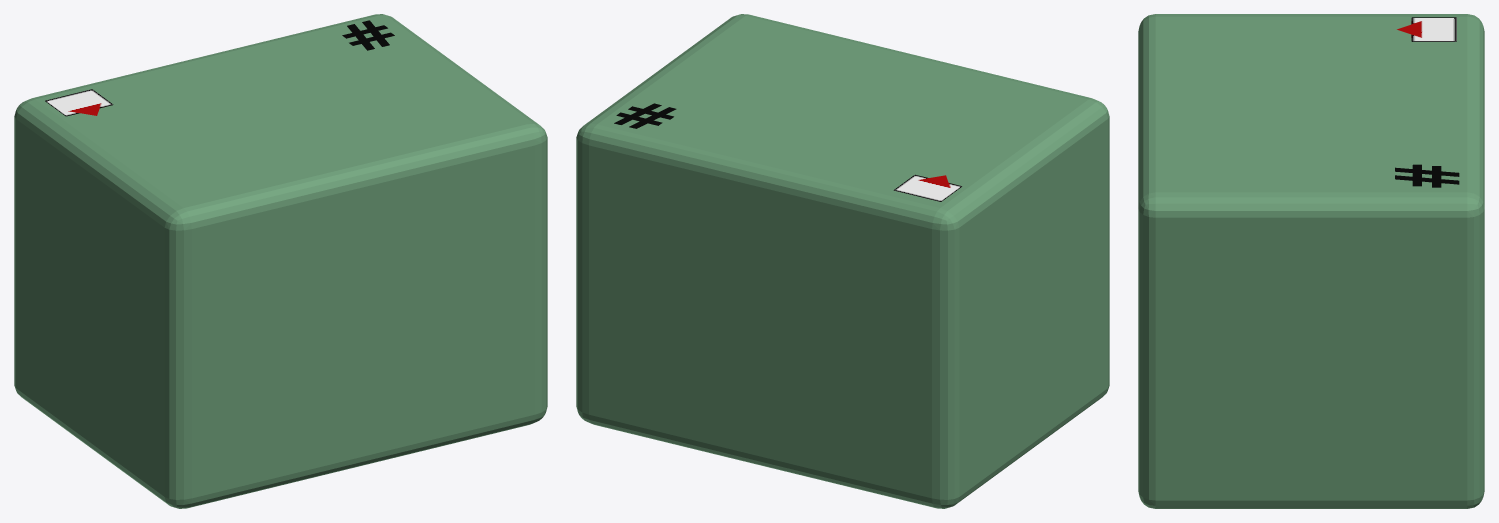
Rendered from StateROT_Hashtag.dae.
3 views of the same model, side by side, from view 1: azimuth 30°, elevation 25°; view 2: azimuth 150°, elevation 25°; view 3: azimuth 270°, elevation 25° (orthographic). The views are drawn at different scales.
Parts seen in each view (by area): view 1: Cube, Plane, Plane_001; view 2: Cube, Plane, Plane_001; view 3: Cube, Plane, Plane_001.
Boxes of the visible parts, left/top/right/bottom form: Cube: left=14, top=14, right=547, bottom=508; Plane: left=45, top=89, right=113, bottom=116; Plane_001: left=342, top=20, right=394, bottom=50; Cube: left=576, top=14, right=1109, bottom=508; Plane: left=893, top=174, right=961, bottom=201; Plane_001: left=614, top=103, right=676, bottom=128; Cube: left=1138, top=14, right=1484, bottom=508; Plane: left=1397, top=17, right=1456, bottom=41; Plane_001: left=1395, top=164, right=1459, bottom=187.
Size of the model in its own units: 2 by 1.5 by 1.51.
Materials: 3 (2 with a texture image).
